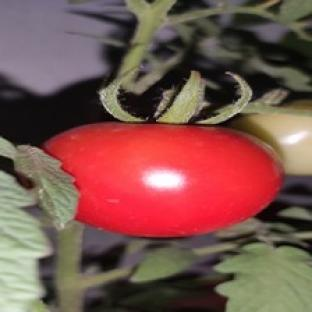Tomato: (44, 123, 282, 236), (232, 115, 311, 175)
